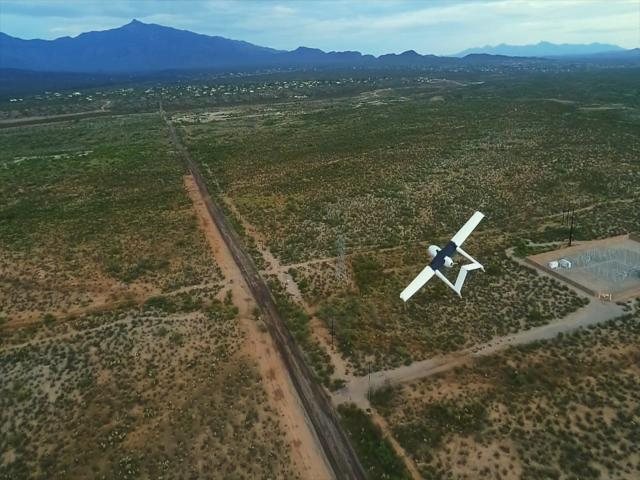plane: (399, 210, 486, 303)
